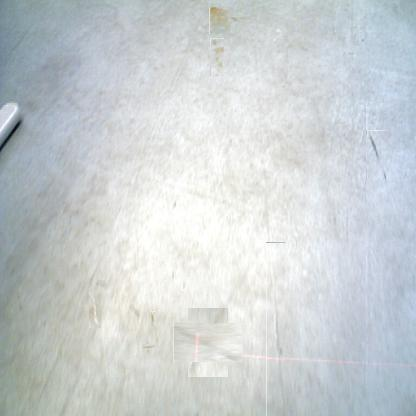liquid: (266, 242, 285, 416), (209, 6, 230, 34), (210, 38, 224, 76), (89, 292, 101, 328), (230, 16, 252, 22)
mark: (181, 315, 235, 370), (366, 130, 386, 181), (276, 344, 285, 356), (143, 342, 153, 352), (133, 310, 141, 322), (150, 311, 156, 326), (172, 198, 178, 210), (181, 281, 186, 291), (171, 270, 175, 281), (360, 36, 364, 43)
